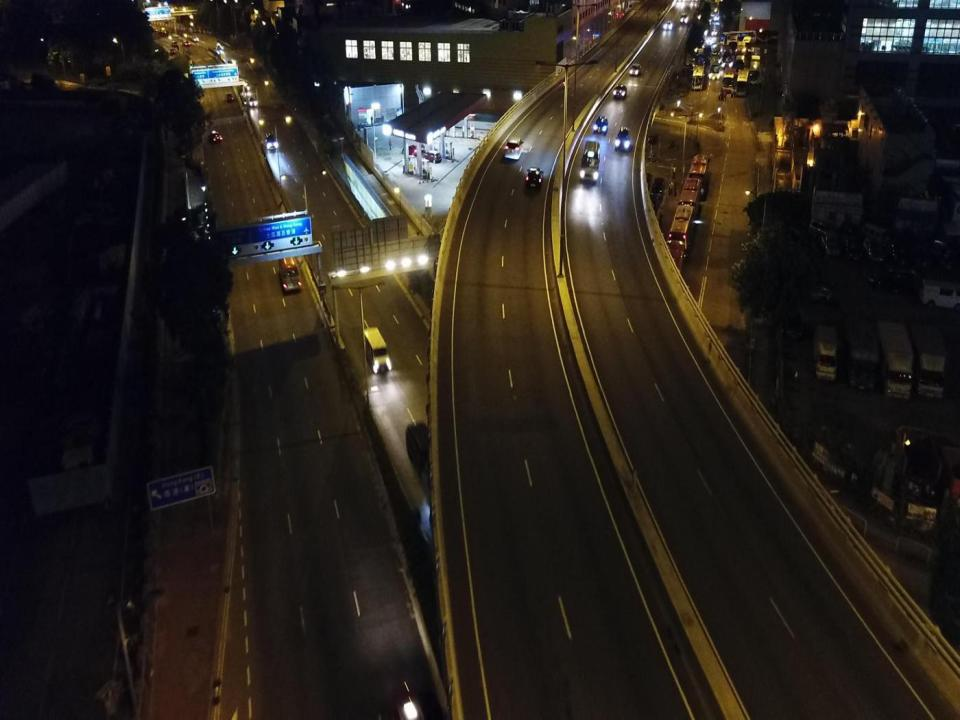bus: (406, 421, 466, 524), (657, 240, 685, 312), (665, 204, 694, 259), (278, 248, 302, 292), (687, 154, 710, 197), (678, 177, 701, 220), (581, 141, 600, 181), (722, 30, 756, 45), (735, 68, 749, 96), (692, 64, 704, 90), (723, 67, 734, 92), (750, 59, 759, 84), (710, 56, 719, 80), (723, 44, 732, 66), (712, 45, 723, 62), (696, 48, 705, 66), (751, 47, 760, 63), (736, 54, 745, 70)
car: (391, 682, 424, 719), (931, 241, 953, 270), (802, 284, 833, 304), (822, 231, 840, 257), (845, 236, 863, 262), (887, 236, 905, 260), (786, 313, 803, 338), (840, 222, 861, 241), (865, 240, 883, 262), (526, 167, 544, 188), (914, 244, 928, 267), (402, 144, 420, 156), (266, 133, 278, 150), (594, 117, 607, 132), (423, 152, 442, 162), (614, 84, 626, 99), (209, 130, 222, 142), (630, 63, 641, 75), (249, 97, 257, 107), (663, 21, 673, 29), (226, 93, 233, 102), (170, 40, 177, 47), (191, 36, 199, 42), (169, 48, 175, 54), (183, 42, 191, 46), (712, 29, 716, 35)
truck: (878, 321, 914, 400), (910, 324, 946, 400), (844, 319, 879, 391), (814, 325, 838, 381)
van: (921, 278, 960, 313), (362, 327, 391, 374), (868, 267, 916, 293), (864, 224, 890, 244), (809, 220, 833, 240), (504, 136, 523, 160), (615, 126, 630, 151), (649, 192, 661, 209), (654, 178, 664, 198), (680, 12, 688, 24)
